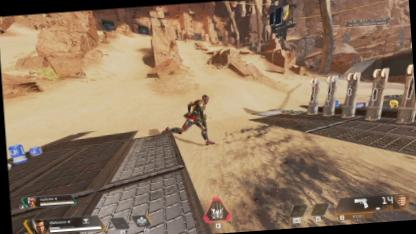Target: (172, 92, 214, 148)
